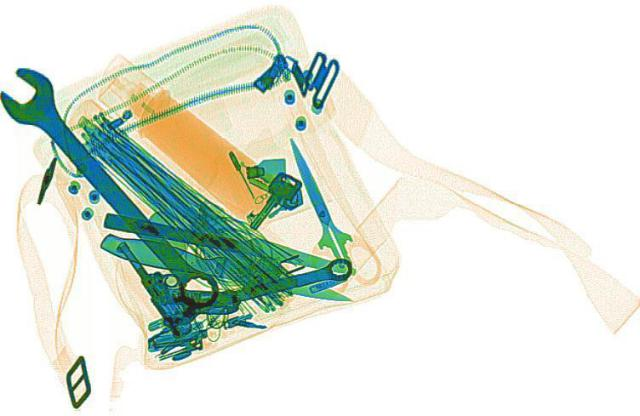Gun: (111, 224, 252, 335)
Knife: (91, 225, 356, 311), (99, 207, 363, 275), (274, 134, 360, 268)
Wrench: (0, 87, 237, 310), (147, 250, 360, 327)
